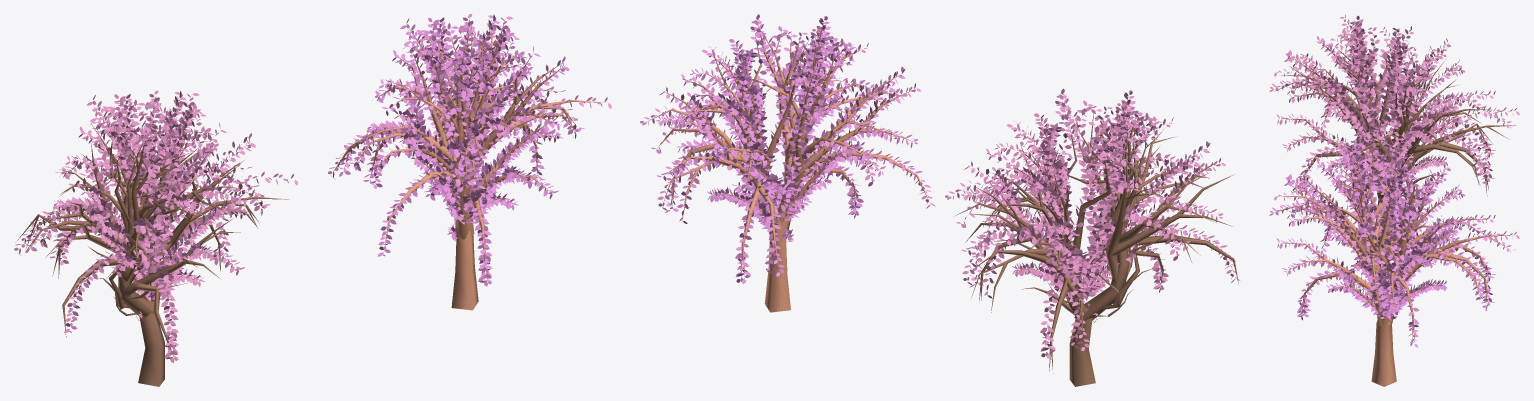
File: cherry_01-02.fbx
3 views of the same model, side by side, from view 1: azimuth 30°, elevation 25°; view 2: azimuth 150°, elevation 25°; view 3: azimuth 270°, elevation 25° (orthographic). The views are drawn at different scales.
Parts seen in each view (by area): view 1: leaves, leaves.001, tree.001, tree; view 2: leaves, leaves.001, tree.001, tree; view 3: leaves, leaves.001, tree, tree.001.
Part boxes in pixels (x1,y1,x2,y2): leaves: (328,14,611,286); leaves.001: (14,90,297,362); tree.001: (15,116,289,386); tree: (331,19,607,310); leaves: (640,14,935,283); leaves.001: (945,88,1240,358); tree.001: (953,114,1238,386); tree: (646,21,929,312); leaves: (1269,138,1519,347); leaves.001: (1269,14,1519,221); tree: (1274,143,1515,386); tree.001: (1274,32,1515,260).
Bounding box in the file's own units: 1110 × 538 × 522.
